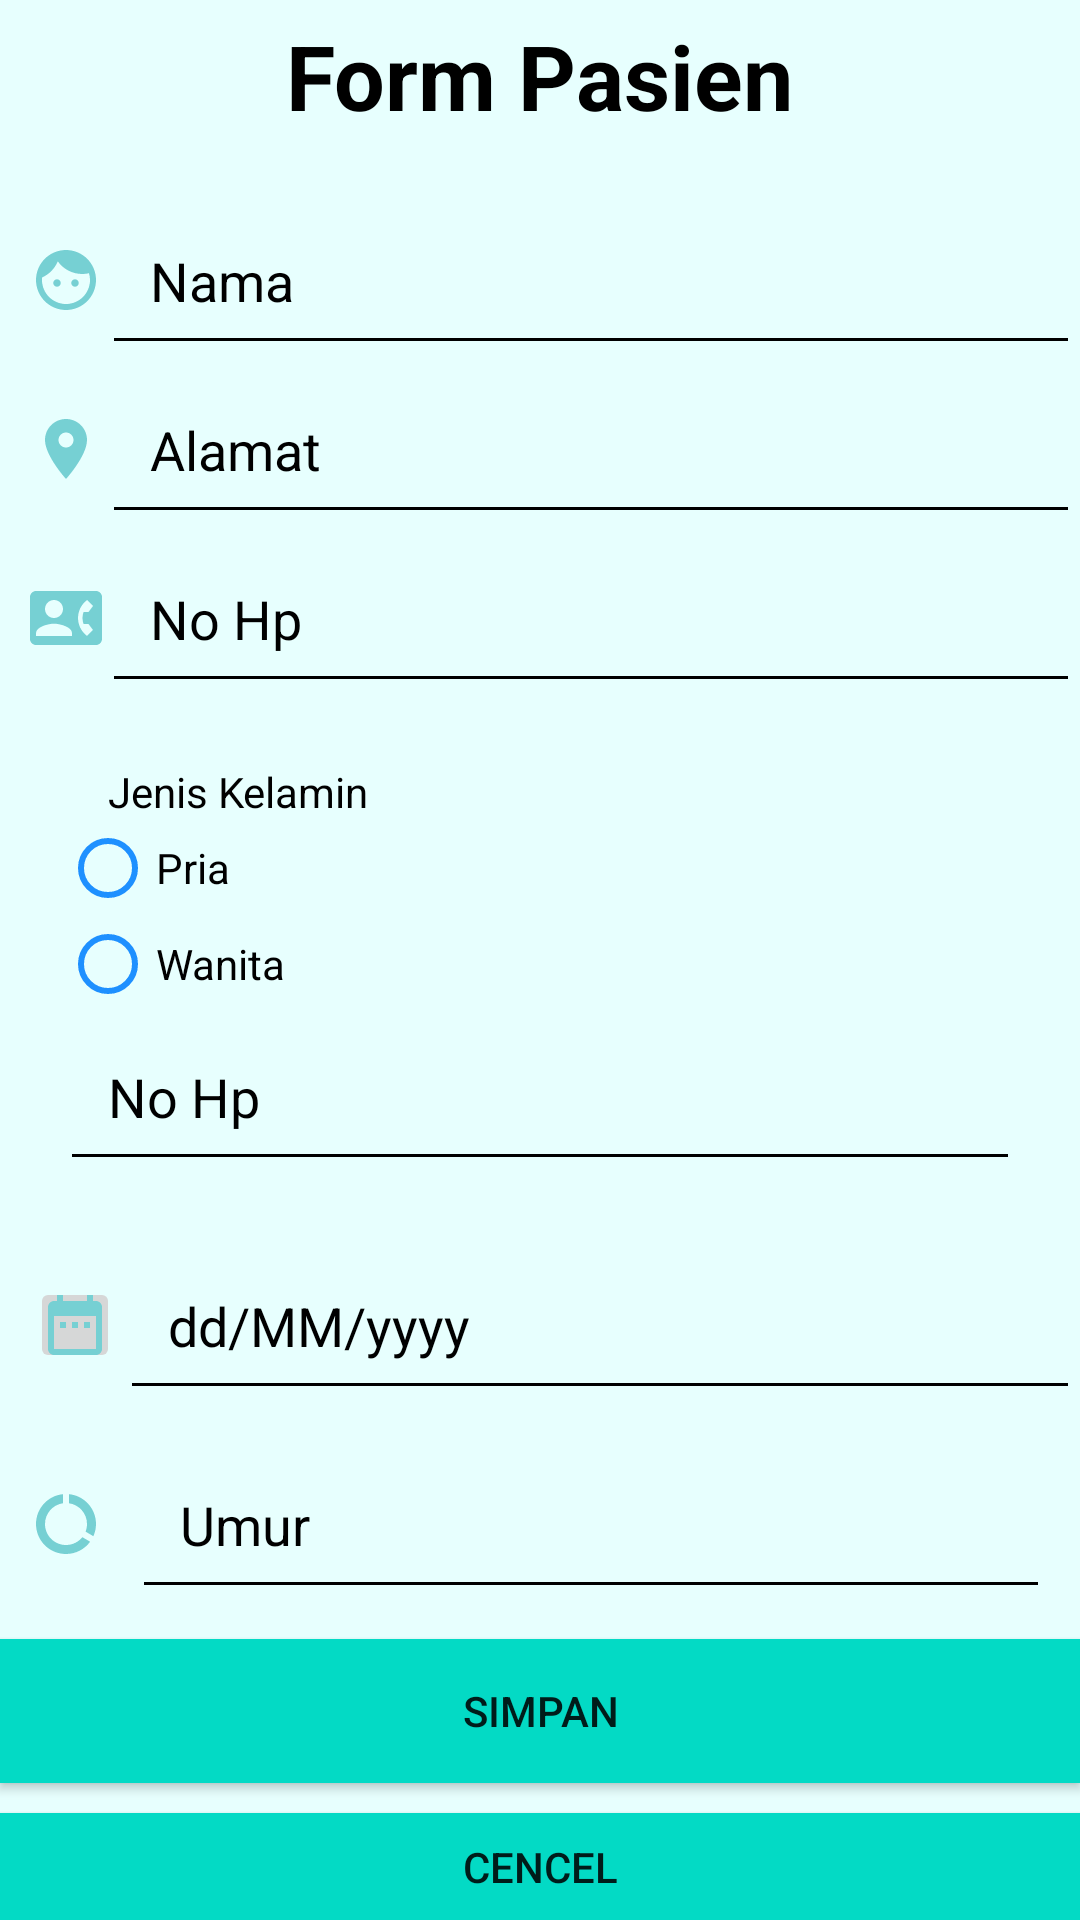

Icons on this 1080×1920 Android screen, each with the point to tap as (x=x, y=y):
face: (x=66, y=280)
tgllahir: (x=75, y=1325)
